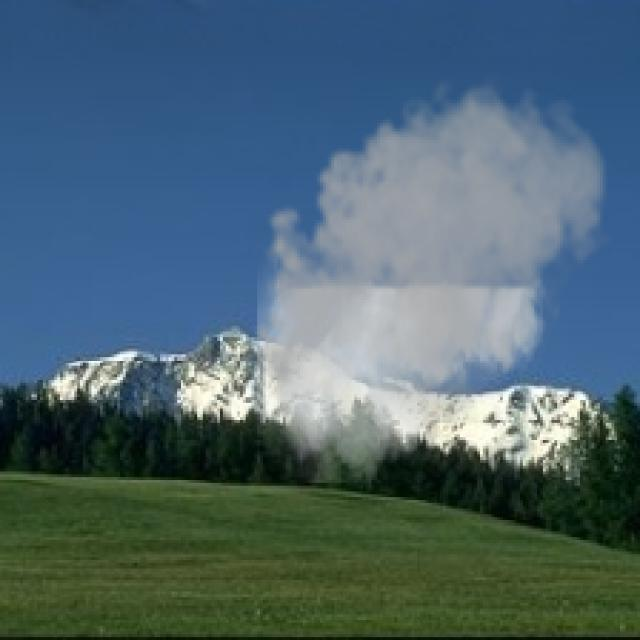Smoke: (242, 68, 614, 483)
